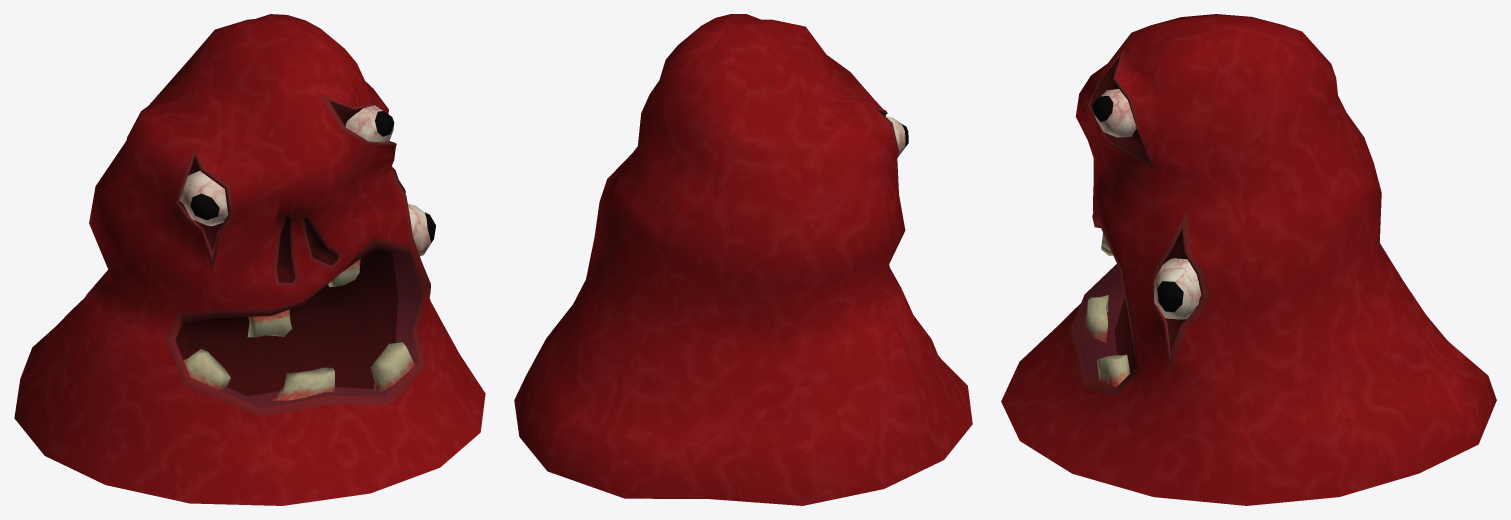
Rendered from Monster.fbx.
3 renders of one model, left to right at view 1: azimuth 30°, elevation 25°; view 2: azimuth 150°, elevation 25°; view 3: azimuth 270°, elevation 25°, orthographic. The views are drawn at different scales.
Parts seen in each view (by area): view 1: Enemy, Eye.3, Eye.1, Eye.2; view 2: Enemy; view 3: Enemy, Eye.2, Eye.1.
Part boxes in pixels (x1,y1,x2,y2): Enemy: (14, 14, 485, 505); Eye.3: (180, 171, 228, 226); Eye.1: (345, 105, 394, 142); Eye.2: (408, 204, 435, 256); Enemy: (514, 14, 972, 505); Enemy: (1001, 14, 1496, 505); Eye.2: (1154, 258, 1201, 319); Eye.1: (1092, 89, 1136, 137).
Size of the model in its own units: 547 by 481 by 553.
